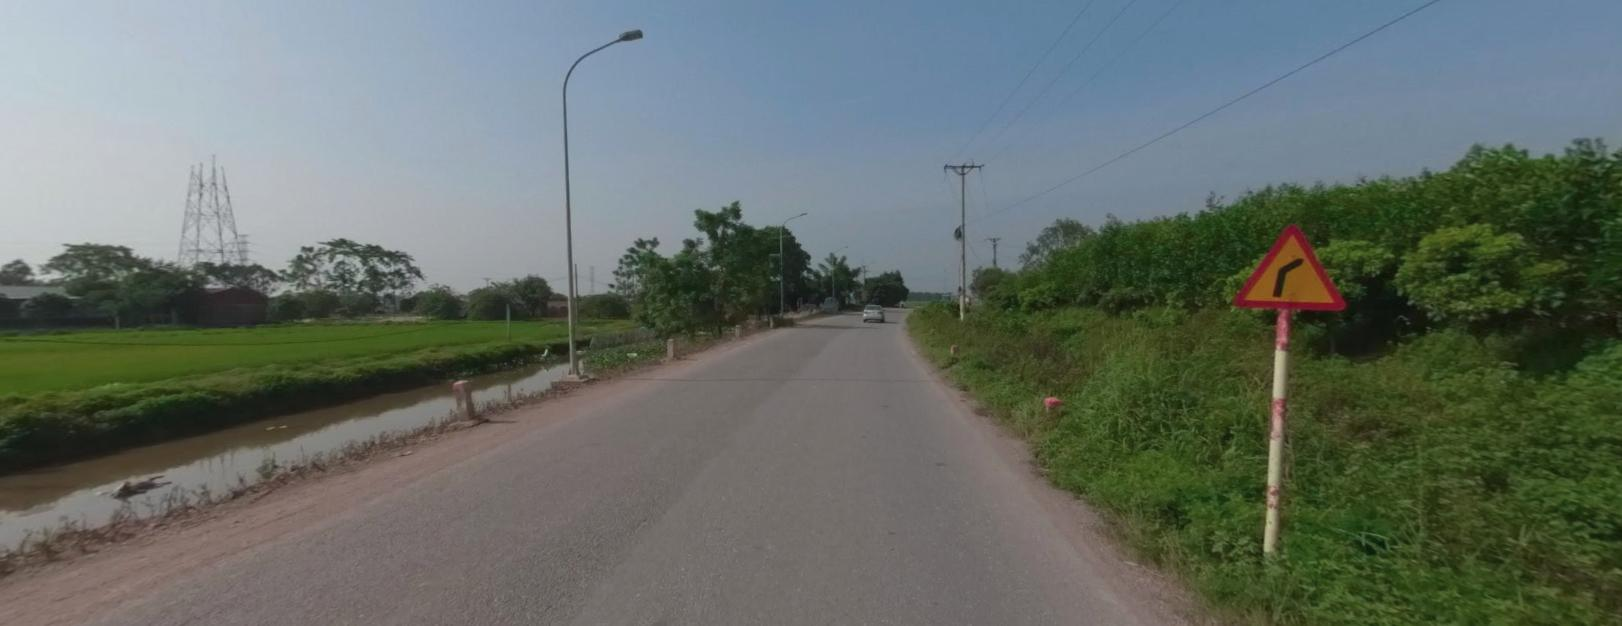Nguy hiem: (1232, 223, 1346, 309)
